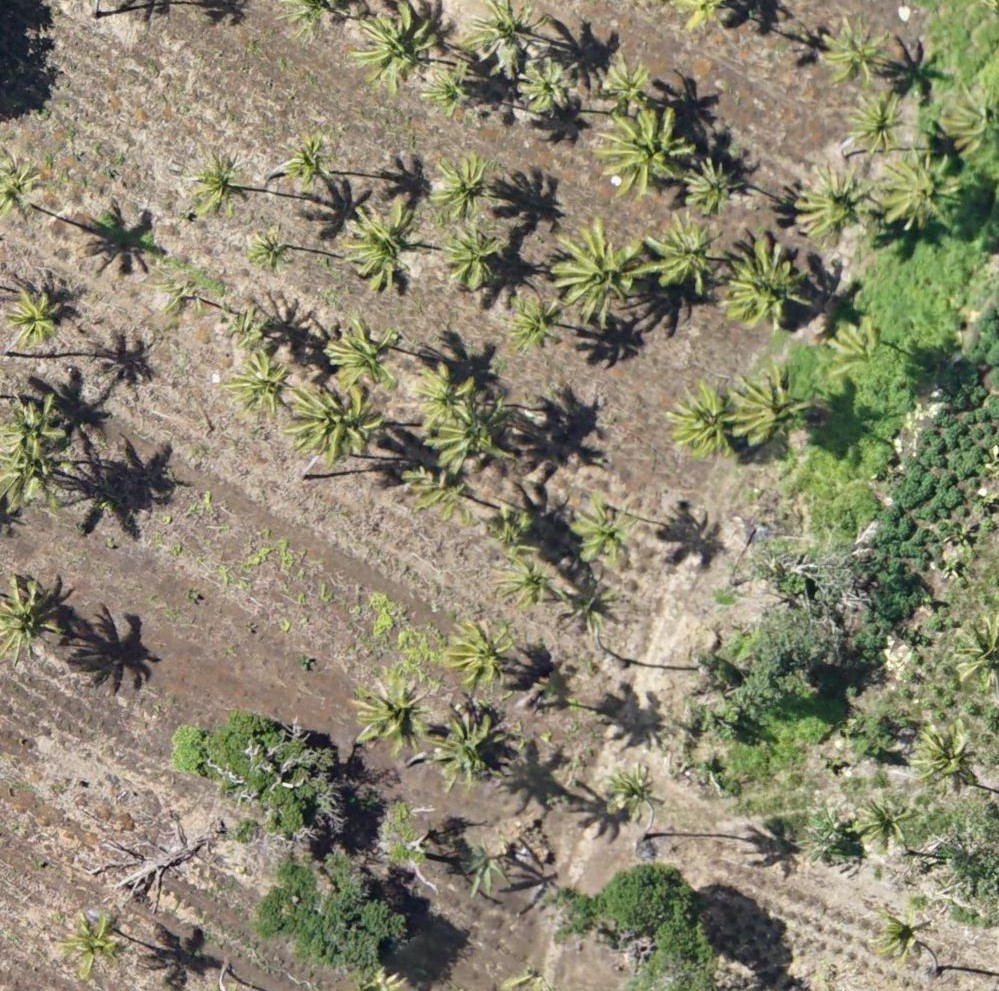Palm: (554, 219, 638, 320), (724, 238, 803, 333), (601, 112, 690, 193), (351, 3, 433, 90), (345, 204, 420, 288), (881, 152, 961, 230), (793, 165, 873, 241), (668, 381, 742, 459), (646, 213, 714, 296), (1, 575, 68, 657), (734, 368, 806, 444), (298, 381, 372, 454), (349, 675, 420, 751), (435, 713, 505, 783), (909, 723, 978, 794), (326, 316, 395, 385), (816, 15, 885, 84), (446, 616, 512, 683), (438, 223, 502, 292), (463, 1, 550, 51), (436, 405, 505, 468), (228, 354, 292, 420), (408, 364, 475, 427), (568, 499, 636, 560), (1, 445, 62, 512), (430, 153, 490, 220), (944, 81, 998, 154), (2, 395, 65, 457), (60, 913, 124, 974), (3, 288, 61, 352), (186, 154, 242, 218), (518, 52, 571, 117), (685, 159, 744, 216), (852, 796, 911, 852), (484, 503, 542, 559), (845, 92, 902, 147), (829, 320, 887, 372), (275, 130, 329, 185), (498, 558, 554, 610), (599, 56, 649, 111), (509, 297, 562, 348), (426, 61, 475, 116), (880, 908, 930, 958), (565, 580, 621, 624), (223, 301, 272, 351), (605, 768, 654, 813), (249, 222, 293, 272)
